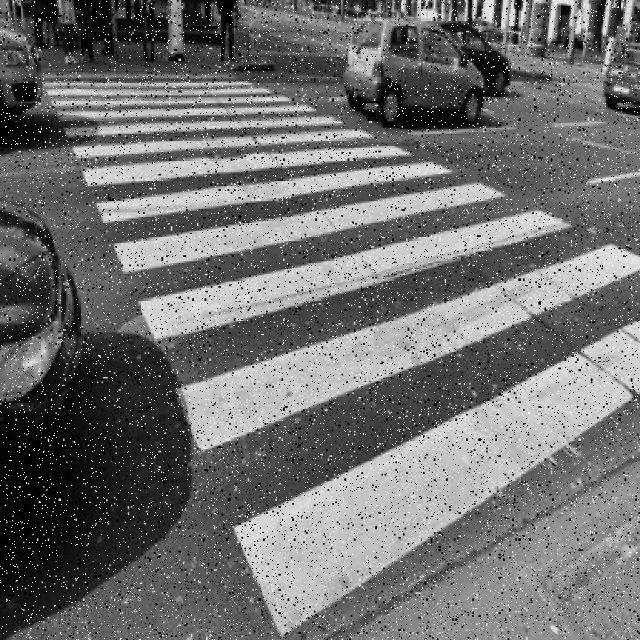Pedestrian crosswalk: (39, 76, 638, 636)
